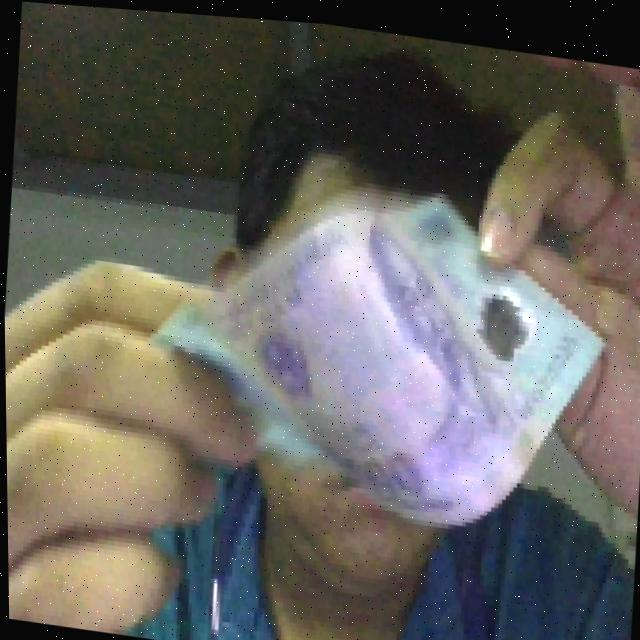500 000 VND: (133, 139, 619, 546)
